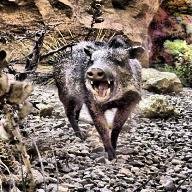boar: (47, 29, 171, 164)
